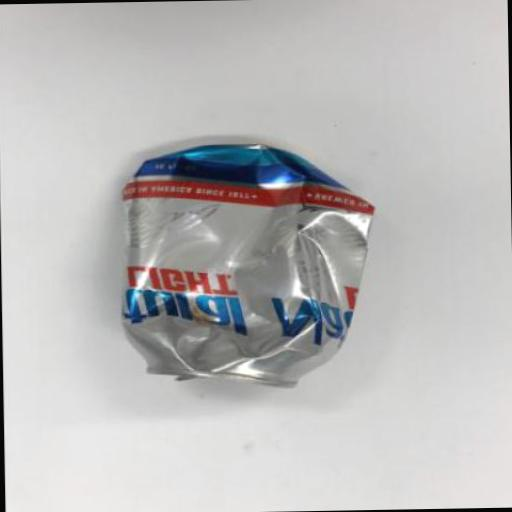metal: (118, 144, 379, 394)
